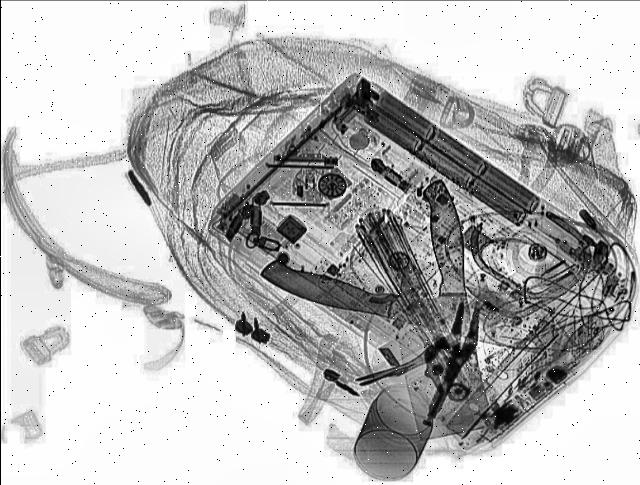Knife: (374, 175, 496, 439), (259, 257, 563, 359)
